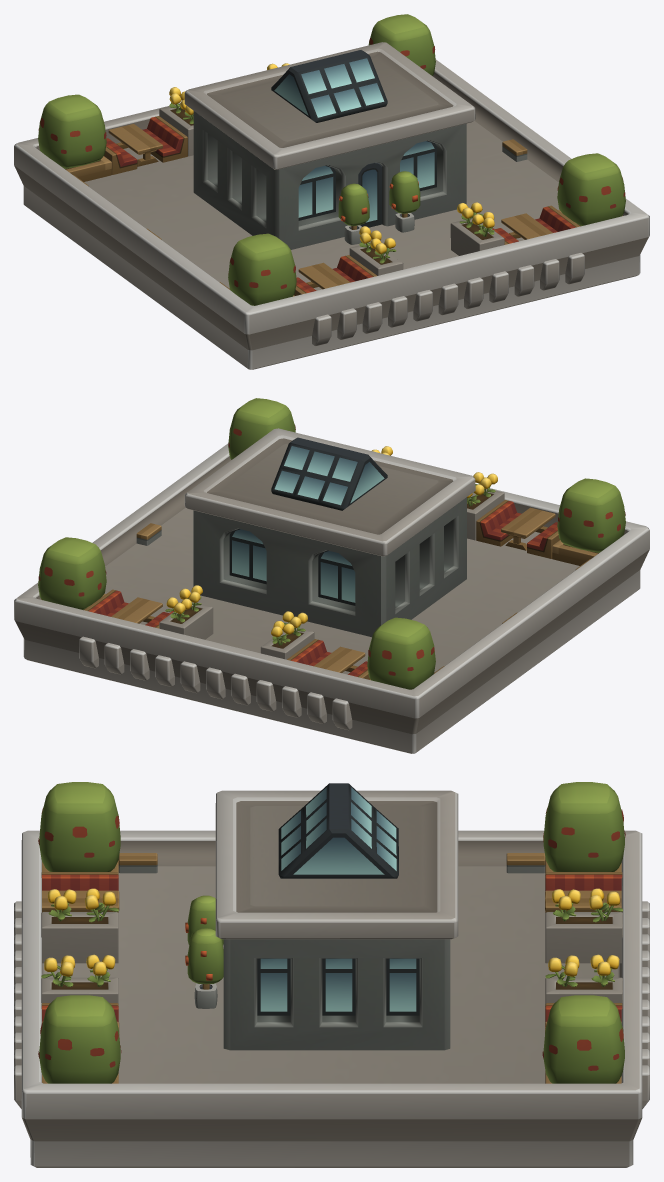
The model's file is office_building_type1_roof_grey_deco.fbx.
3 renders of one model, top to bottom at view 1: azimuth 30°, elevation 25°; view 2: azimuth 150°, elevation 25°; view 3: azimuth 270°, elevation 25°, orthographic. The views are drawn at different scales.
Parts seen in each view (by area): view 1: office_building_type1_roof_grey_deco, door_office_building_type1_roof_grey_deco; view 2: office_building_type1_roof_grey_deco; view 3: office_building_type1_roof_grey_deco.
Part boxes in pixels (box(x1,y1,x2,y2)): office_building_type1_roof_grey_deco: box(14, 14, 649, 369); door_office_building_type1_roof_grey_deco: box(358, 162, 382, 227); office_building_type1_roof_grey_deco: box(14, 398, 649, 753); office_building_type1_roof_grey_deco: box(14, 782, 649, 1167).
Size of the model in its own units: 1600 by 671 by 1640.
